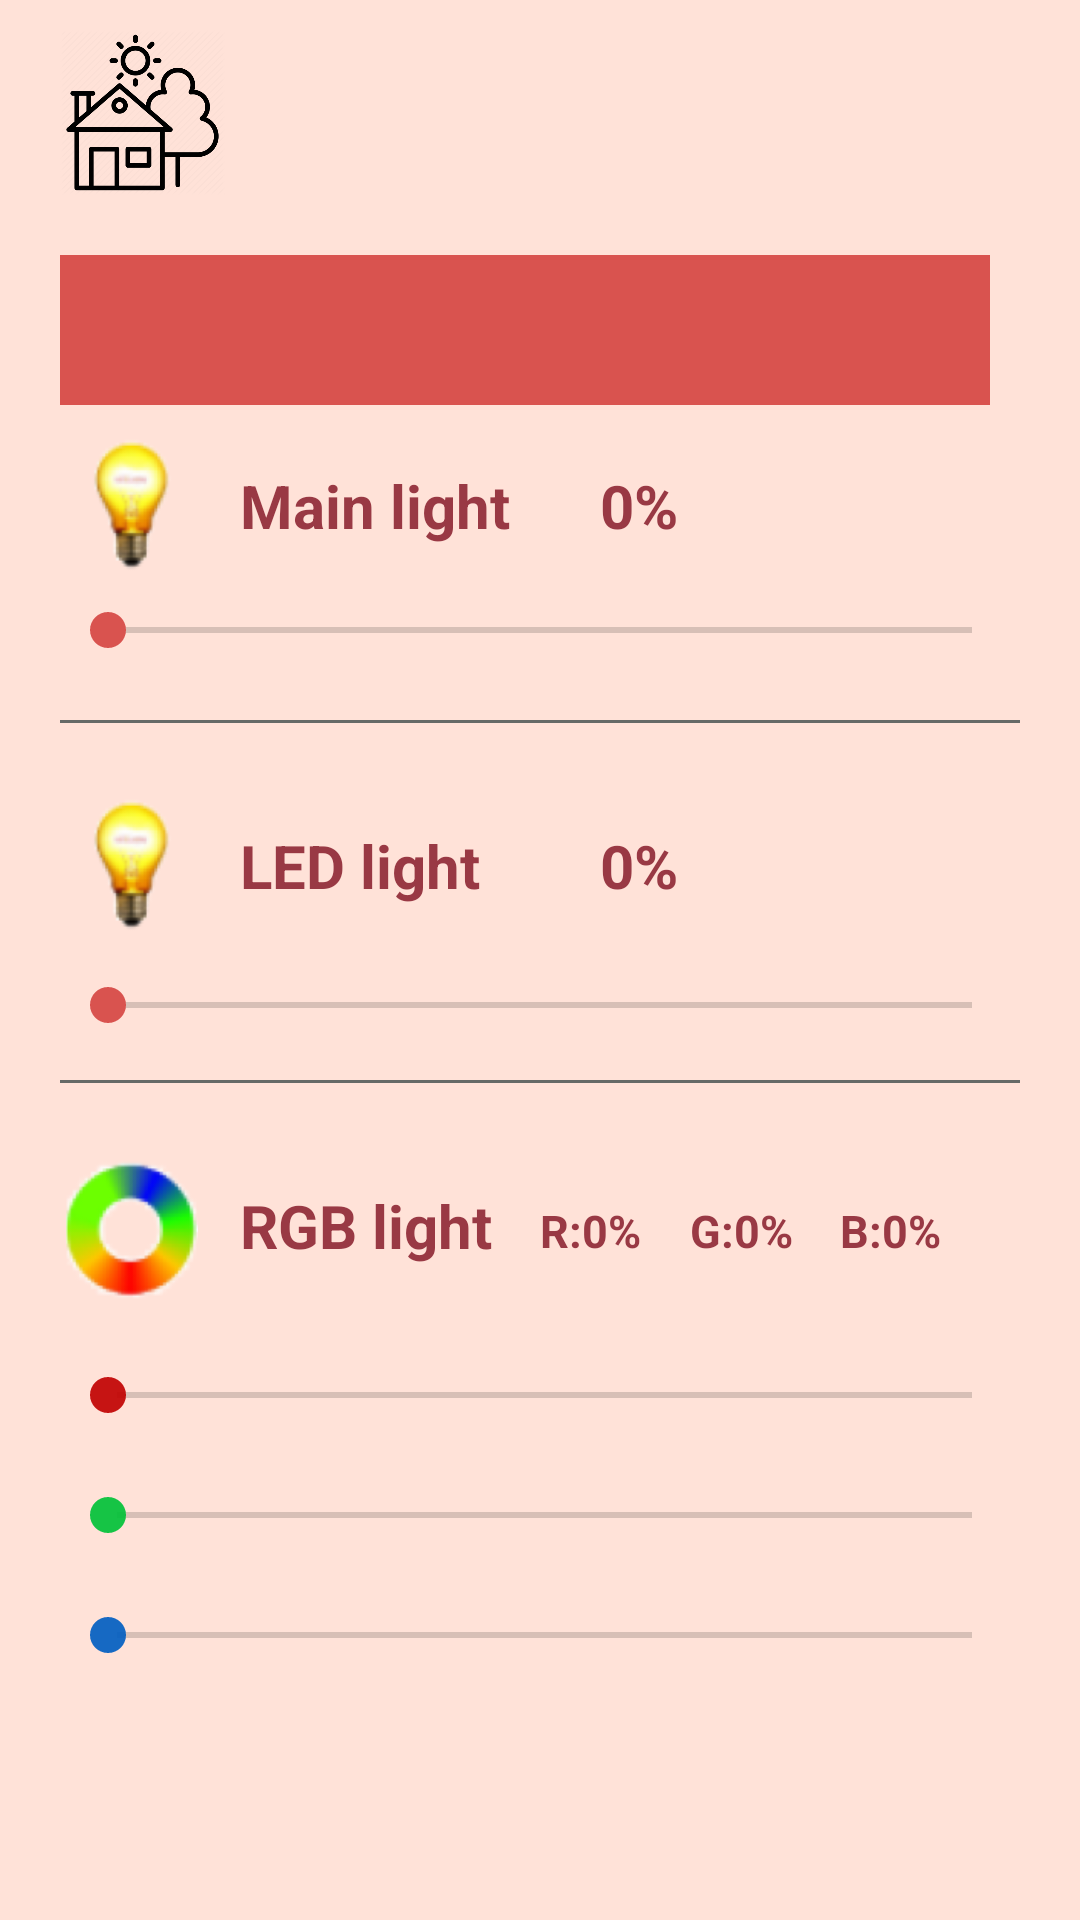

Where icons sit on this 1080px×1920px app screen, as (x1, y1, x2, y2):
bulb: (95, 442, 168, 568), (95, 802, 168, 928)
house: (66, 34, 219, 191)
